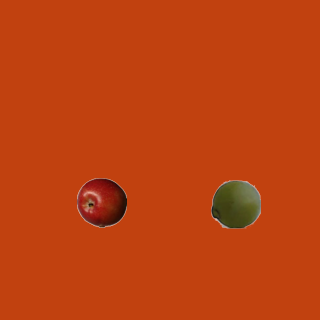Apple Braeburn: (76, 177, 126, 227)
Grape White 4: (210, 178, 260, 228)
